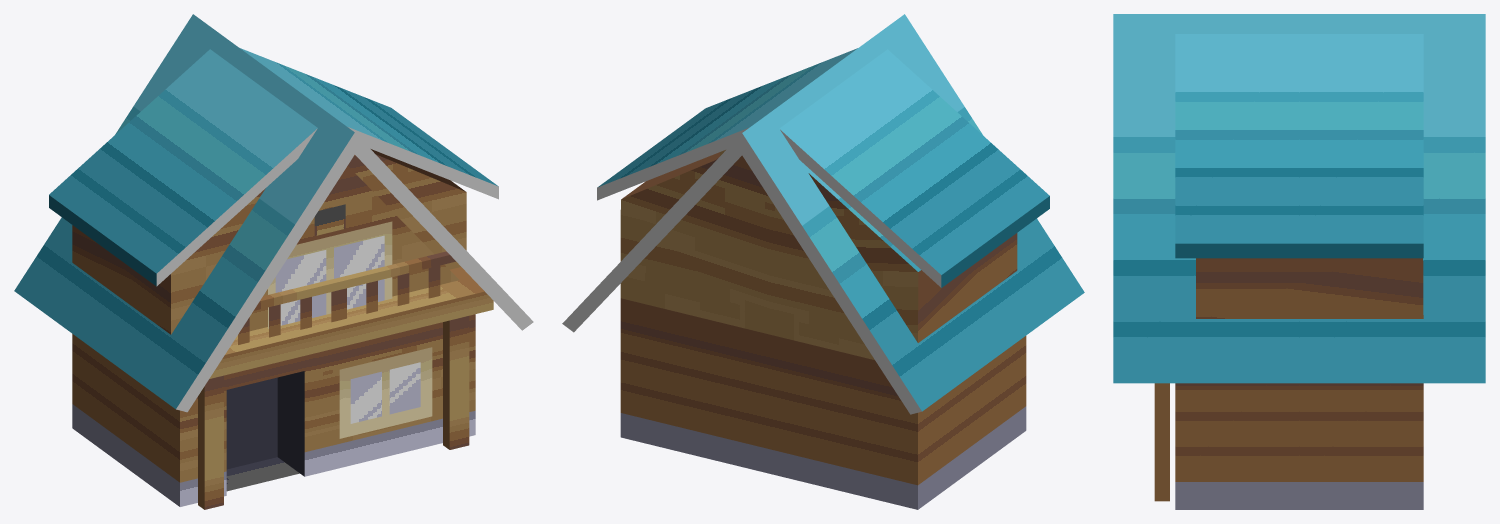
The model's file is CasaP.obj.
The picture shows the model from 3 angles, left to right: view 1: azimuth 30°, elevation 25°; view 2: azimuth 150°, elevation 25°; view 3: azimuth 270°, elevation 25°; orthographic projection. The views are drawn at different scales.
Visible parts, largest first — view 1: Player_s_House; view 2: Player_s_House; view 3: Player_s_House.
Part boxes in pixels (left/top/right/bottom): Player_s_House: left=14, top=14, right=533, bottom=509; Player_s_House: left=562, top=14, right=1084, bottom=509; Player_s_House: left=1113, top=14, right=1485, bottom=509.
Bounding box in the file's own units: 92 × 88.02 × 72.
